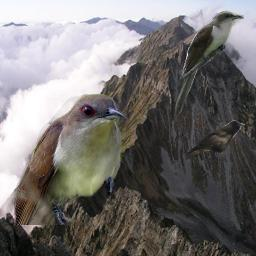Crow: (186, 120, 245, 157)
Cuckoo: (14, 94, 128, 225), (171, 10, 244, 119)
